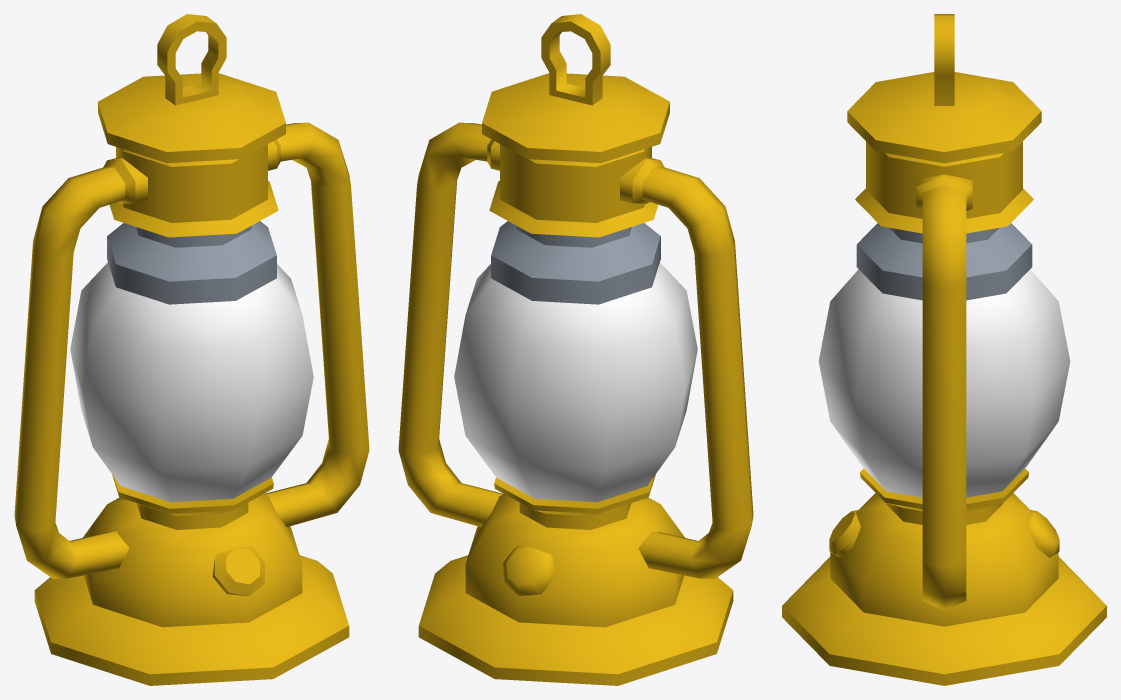
File: Lantern.fbx
The picture shows the model from 3 angles, left to right: view 1: azimuth 30°, elevation 25°; view 2: azimuth 150°, elevation 25°; view 3: azimuth 270°, elevation 25°; orthographic projection.
Visible parts, largest first — view 1: ColorB, FlashLight_Emi; view 2: ColorB, FlashLight_Emi; view 3: ColorB, FlashLight_Emi.
Part boxes in pixels (x1,y1,x2,y2): ColorB: (14, 14, 369, 685); FlashLight_Emi: (70, 262, 313, 502); ColorB: (398, 14, 753, 685); FlashLight_Emi: (454, 262, 697, 502); ColorB: (782, 14, 1106, 685); FlashLight_Emi: (818, 269, 1070, 497).
Bounding box in the file's own units: 0.5452 × 0.8914 × 0.4369.
Materials: 2 (2 with a texture image).
